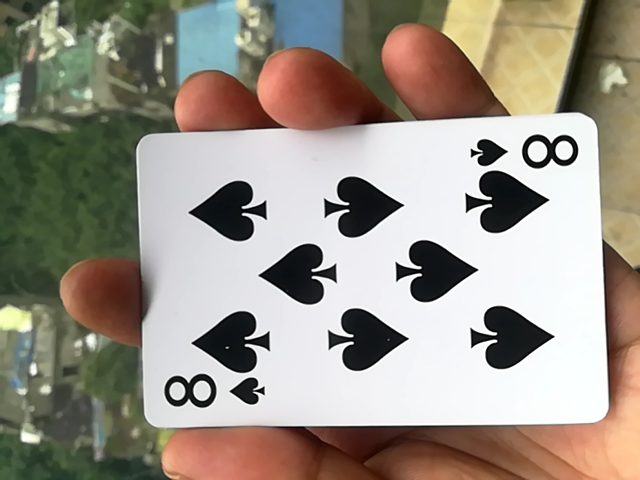ht 8: (119, 116, 596, 454)
